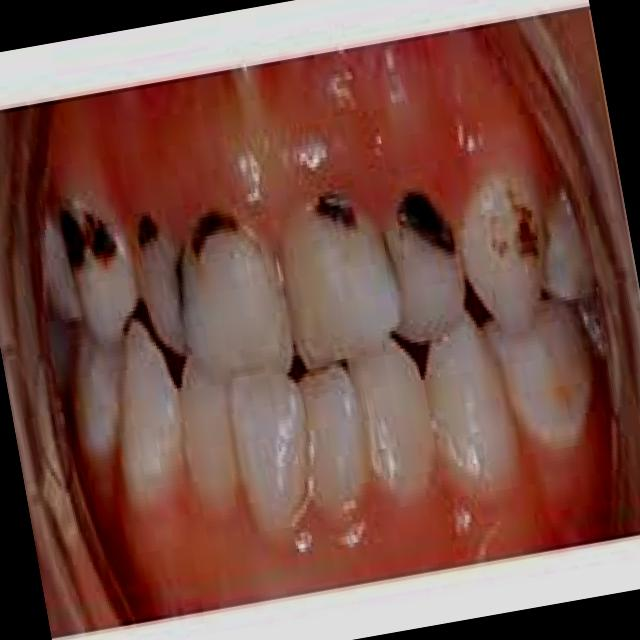caries: (386, 168, 468, 284), (48, 182, 125, 285), (184, 196, 248, 272), (128, 197, 174, 264)
